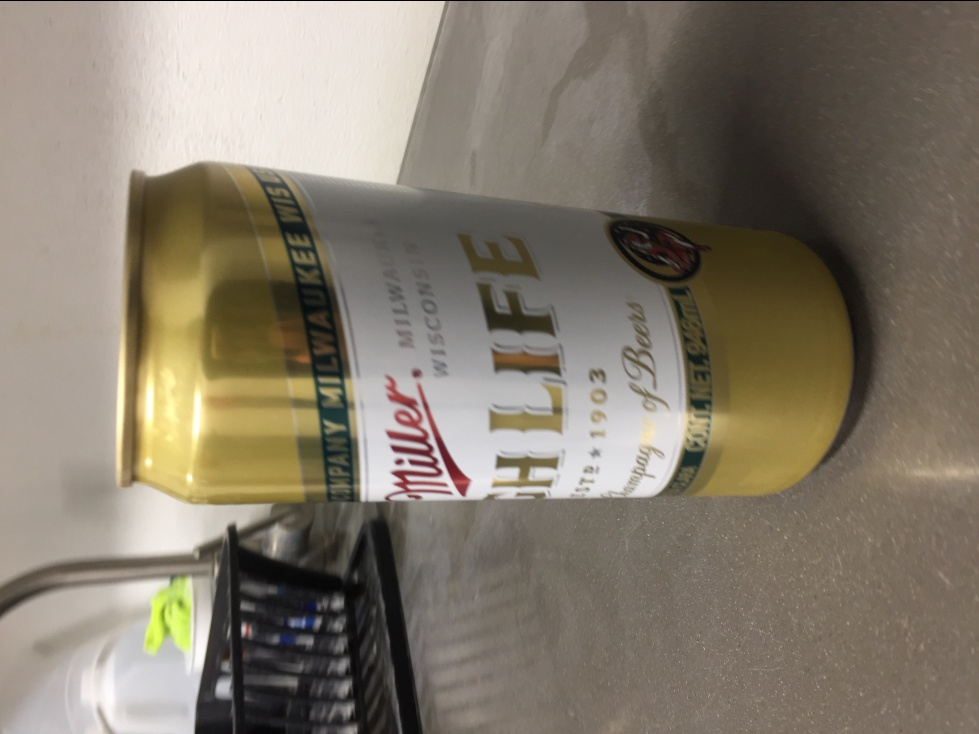miller: (105, 156, 861, 504)
